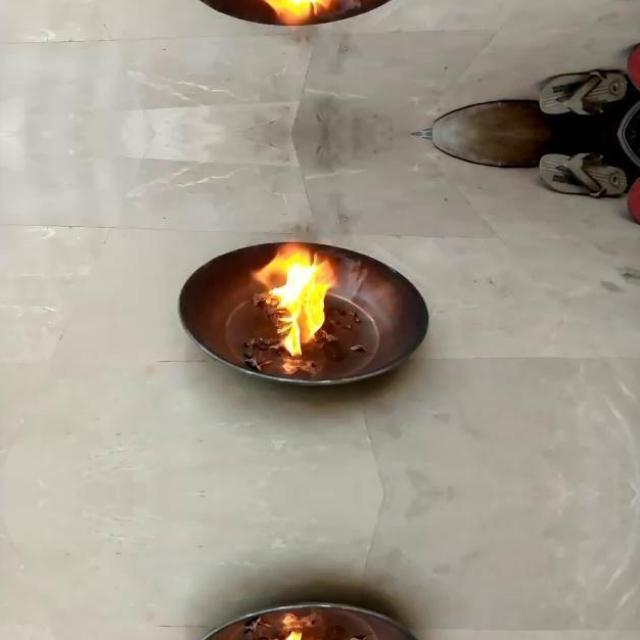smoke: (253, 250, 339, 357), (254, 0, 340, 17)
